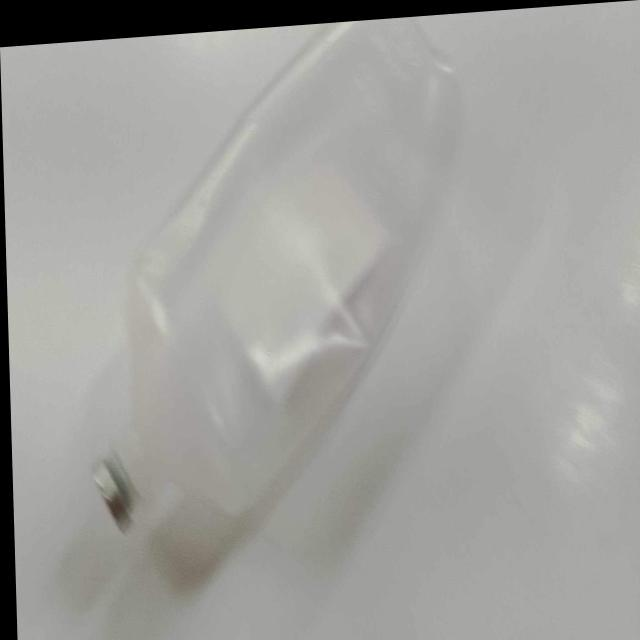Infectious: (90, 15, 466, 598)
Sharps: (92, 448, 144, 534)
